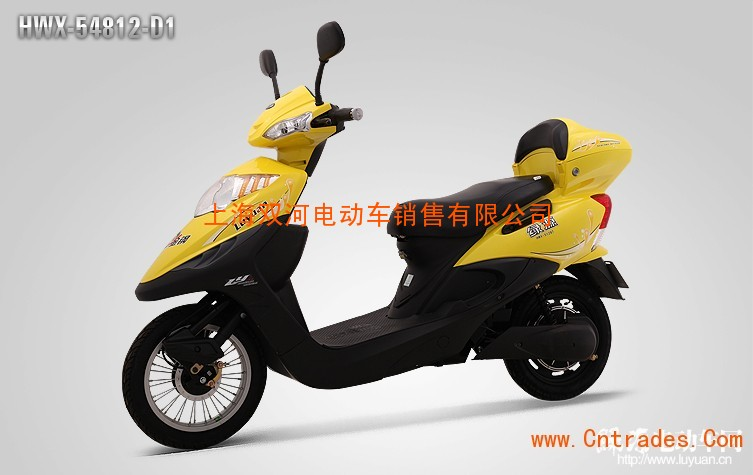电动车: (105, 17, 642, 453)
